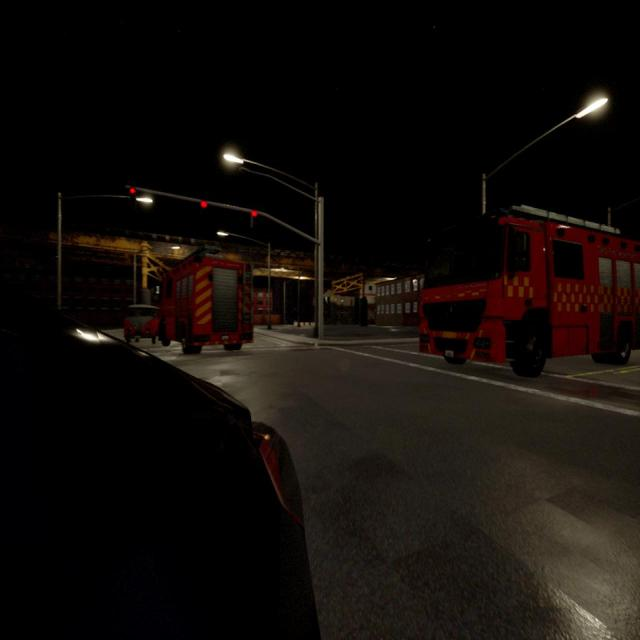Vehicle: (0, 292, 319, 638), (420, 210, 639, 376), (162, 253, 254, 351), (124, 306, 160, 343)
traffic_light: (200, 201, 208, 208), (250, 210, 258, 217), (129, 187, 136, 194)
